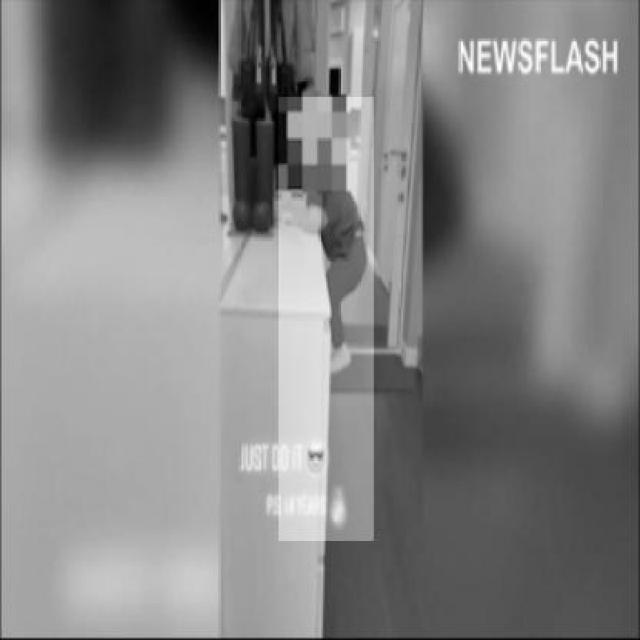child: (278, 97, 374, 540)
